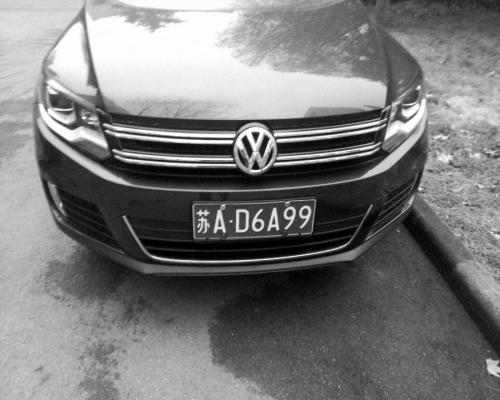Carplate: (185, 196, 318, 242)
